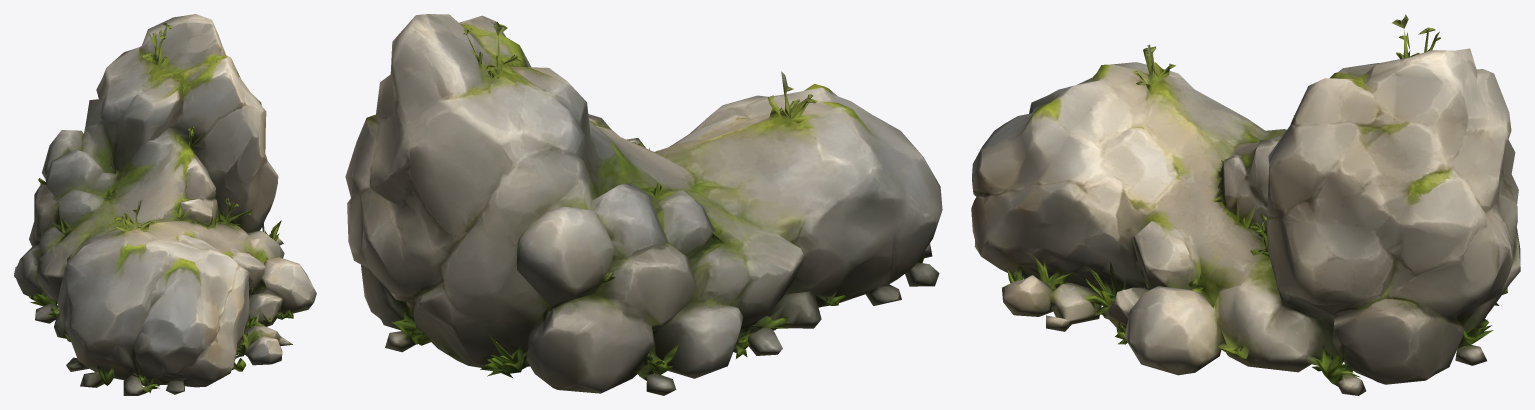
The picture shows the model from 3 angles, left to right: view 1: azimuth 30°, elevation 25°; view 2: azimuth 150°, elevation 25°; view 3: azimuth 270°, elevation 25°; orthographic projection. The views are drawn at different scales.
Visible parts, largest first — view 1: tripo_node_92cf21ee-388c-4999-9af8-b7de16dbf652; view 2: tripo_node_92cf21ee-388c-4999-9af8-b7de16dbf652; view 3: tripo_node_92cf21ee-388c-4999-9af8-b7de16dbf652.
Part boxes in pixels (<box>): tripo_node_92cf21ee-388c-4999-9af8-b7de16dbf652: <box>14,14,316,395</box>; tripo_node_92cf21ee-388c-4999-9af8-b7de16dbf652: <box>345,14,942,395</box>; tripo_node_92cf21ee-388c-4999-9af8-b7de16dbf652: <box>971,14,1520,395</box>.
Size of the model in its own units: 0.8636 by 0.6233 by 0.9784.
Materials: 1 (1 with a texture image).
